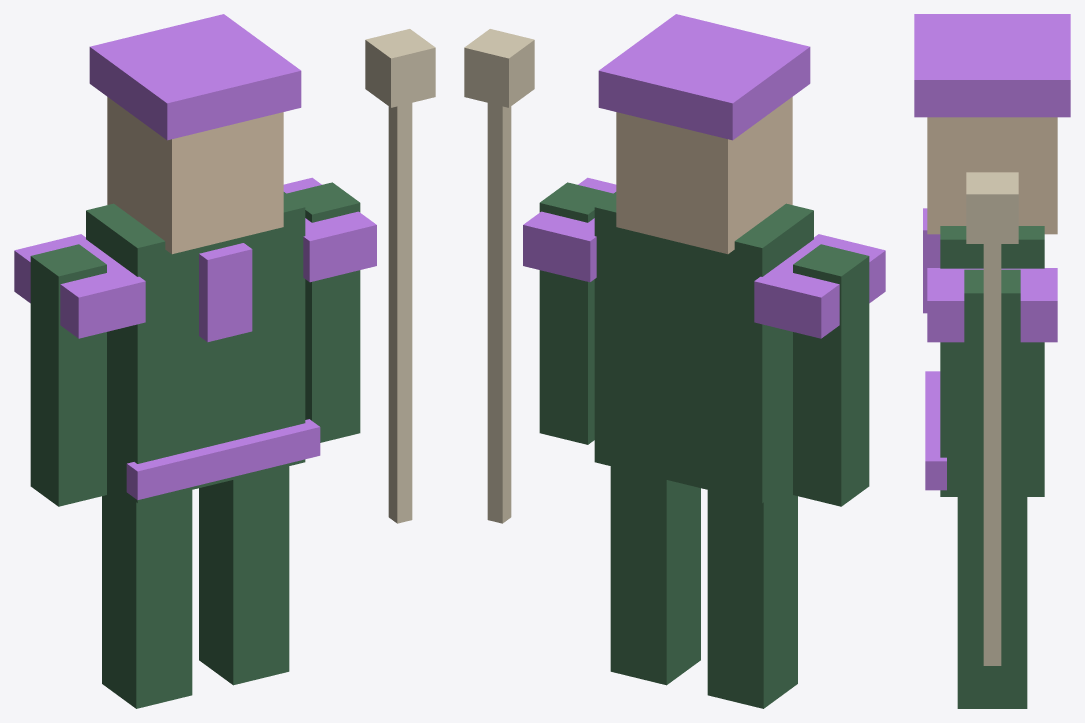
Rendered from 17_talia_nullborne_operator_from.glb.
3 renders of one model, left to right at view 1: azimuth 30°, elevation 25°; view 2: azimuth 150°, elevation 25°; view 3: azimuth 270°, elevation 25°, orthographic.
Visible parts, largest first — view 1: Talia Nullborne, Operator from; view 2: Talia Nullborne, Operator from; view 3: Talia Nullborne, Operator from.
Part boxes in pixels (bbox=[...]): Talia Nullborne, Operator from: bbox=[14, 14, 435, 708]; Talia Nullborne, Operator from: bbox=[464, 14, 885, 708]; Talia Nullborne, Operator from: bbox=[914, 14, 1070, 708].
Bounding box in the file's own units: 1.06 × 1.65 × 0.3749.
